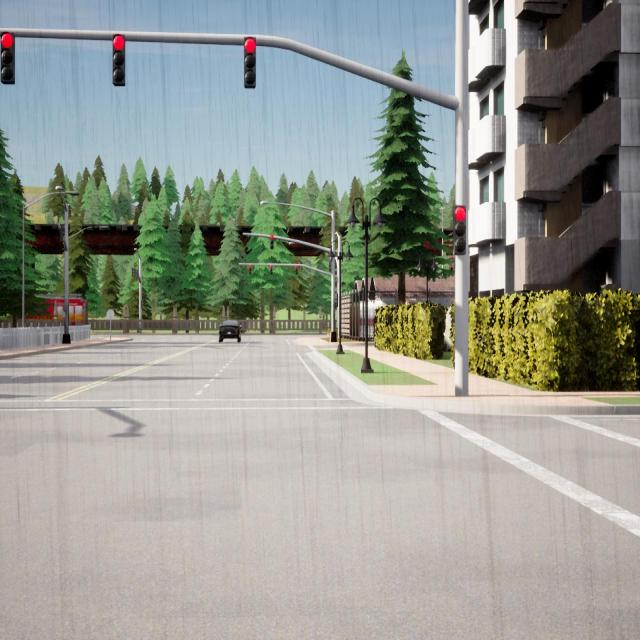Traffic_Signs: (107, 309, 114, 319)
Vehicle: (24, 294, 88, 325), (219, 320, 241, 342)
traffic_light: (1, 31, 16, 84), (113, 34, 125, 86), (244, 37, 256, 89), (453, 206, 466, 254), (61, 225, 65, 241), (270, 235, 274, 249), (248, 264, 252, 276), (270, 265, 273, 275), (296, 265, 298, 275), (132, 268, 134, 277), (141, 300, 143, 309), (134, 269, 135, 277), (136, 270, 137, 278)
